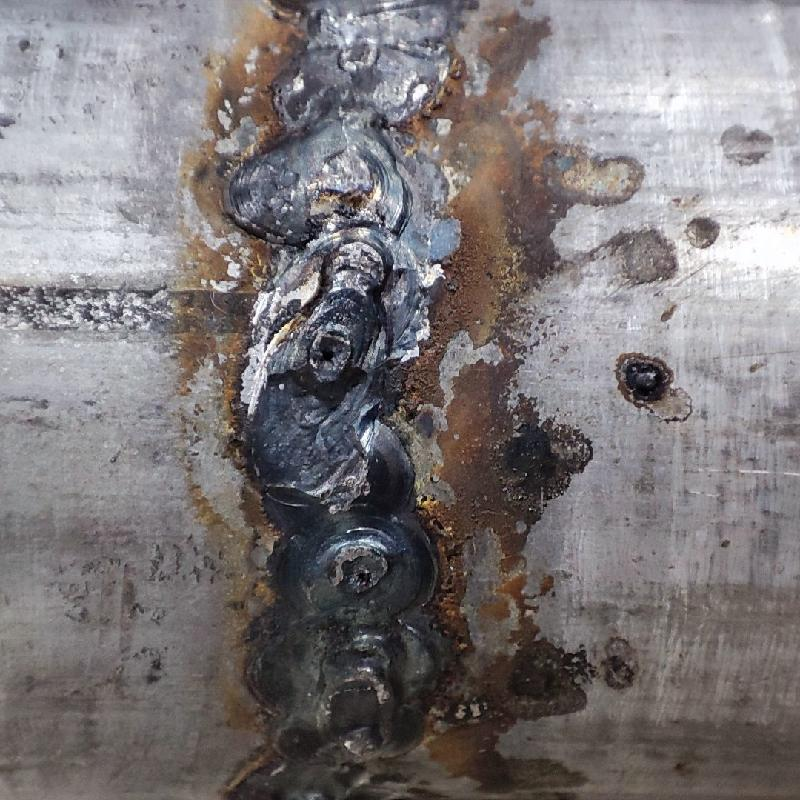Surface_pores: (338, 545, 381, 594), (308, 329, 352, 376)
wrong_size: (230, 0, 444, 794)
